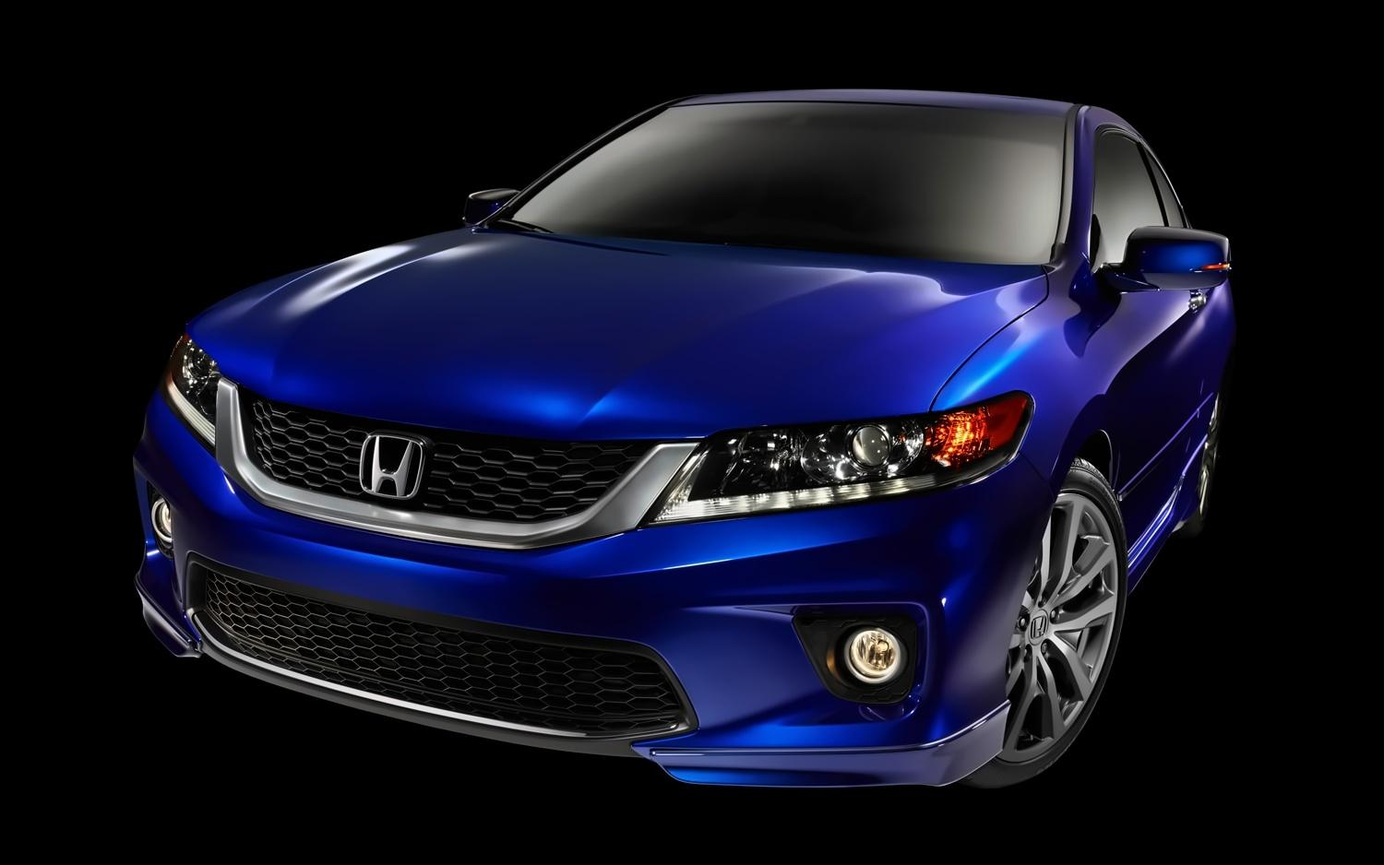Car hood: (176, 215, 1058, 449)
Fender - -F-L-: (932, 262, 1135, 588)
Front bumper: (97, 454, 1064, 802)
Headlight - -L-: (623, 381, 1049, 541)
Headlight - -R-: (136, 307, 246, 451)
Passenger-s door - -F-L-: (1084, 95, 1219, 528)
Side mirror - -L-: (1089, 434, 1219, 597), (1080, 215, 1249, 308)
Side mirror - -R-: (452, 164, 540, 237)
